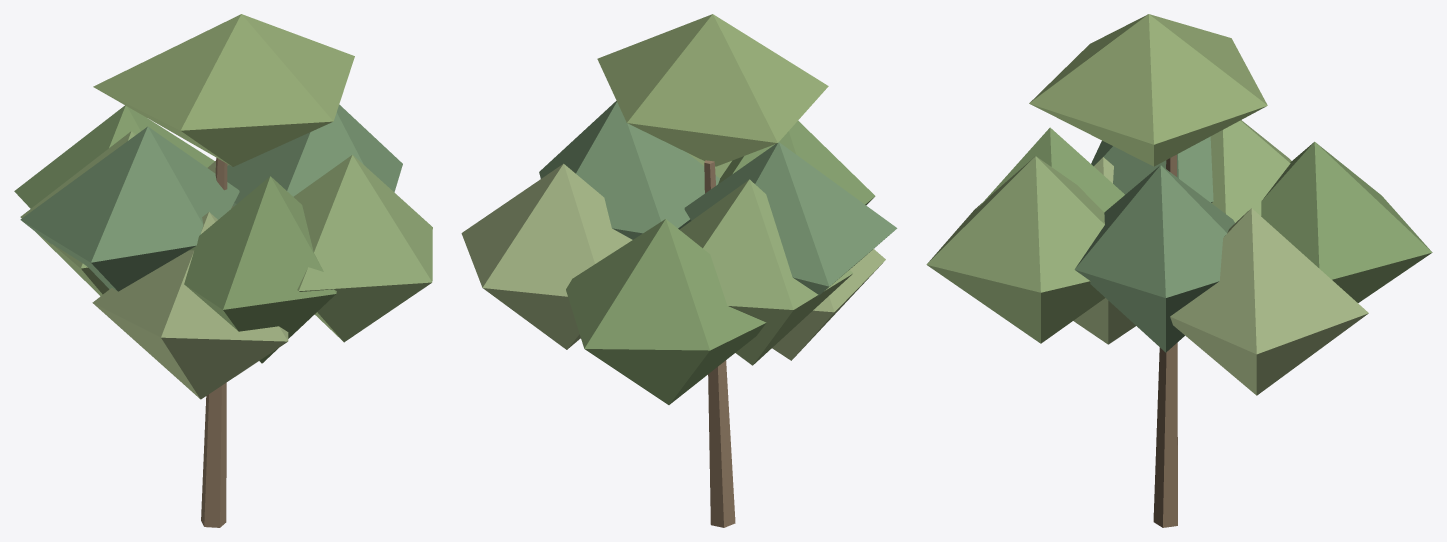
3 views of the same model, side by side, from view 1: azimuth 30°, elevation 25°; view 2: azimuth 150°, elevation 25°; view 3: azimuth 270°, elevation 25° (orthographic). The views are drawn at different scales.
Size of the model in its own units: 8.4 by 10.94 by 9.69.
